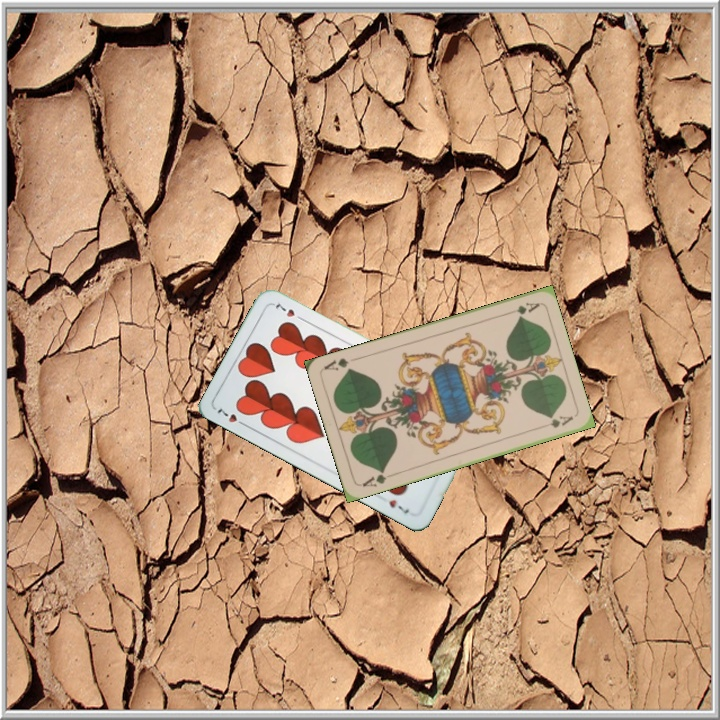GA: (358, 466, 397, 490), (512, 298, 542, 319)
H7: (213, 403, 250, 430)
